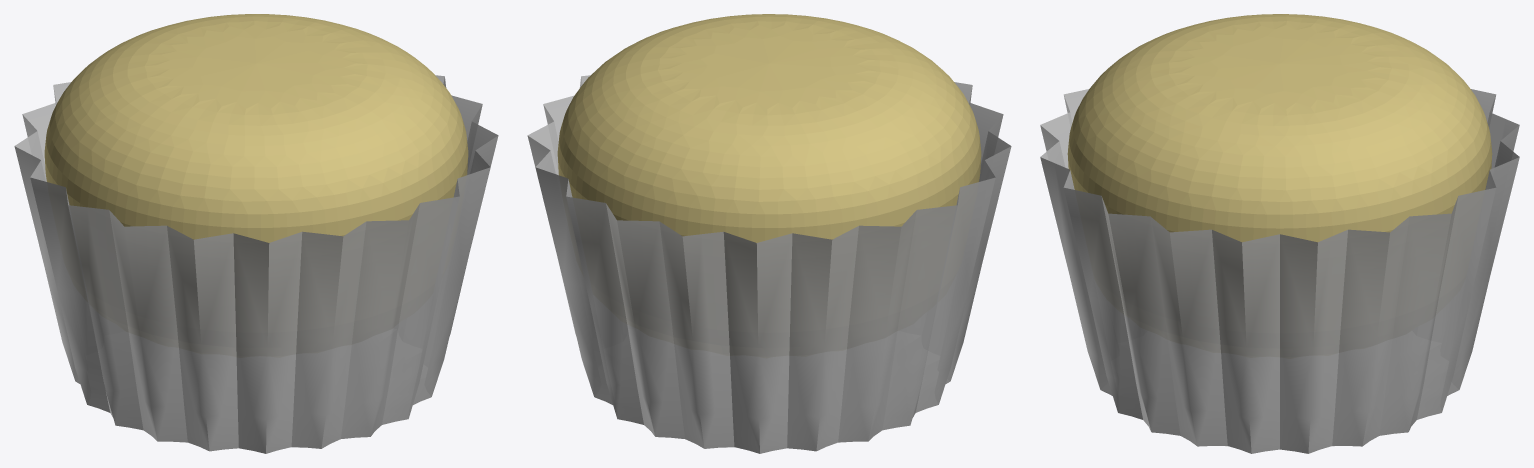
Rendered from cupcake_single.glb.
3 views of the same model, side by side, from view 1: azimuth 30°, elevation 25°; view 2: azimuth 150°, elevation 25°; view 3: azimuth 270°, elevation 25° (orthographic).
Parts seen in each view (by area): view 1: Liner, Cylinder; view 2: Liner, Cylinder; view 3: Liner, Cylinder.
Boxes of the visible parts, left/top/right/bottom form: Liner: left=14, top=75, right=498, bottom=453; Cylinder: left=44, top=14, right=468, bottom=242; Liner: left=527, top=75, right=1011, bottom=453; Cylinder: left=557, top=14, right=981, bottom=242; Liner: left=1040, top=89, right=1519, bottom=453; Cylinder: left=1067, top=14, right=1492, bottom=242.
Size of the model in its own units: 0.2746 by 0.2068 by 0.2746.
